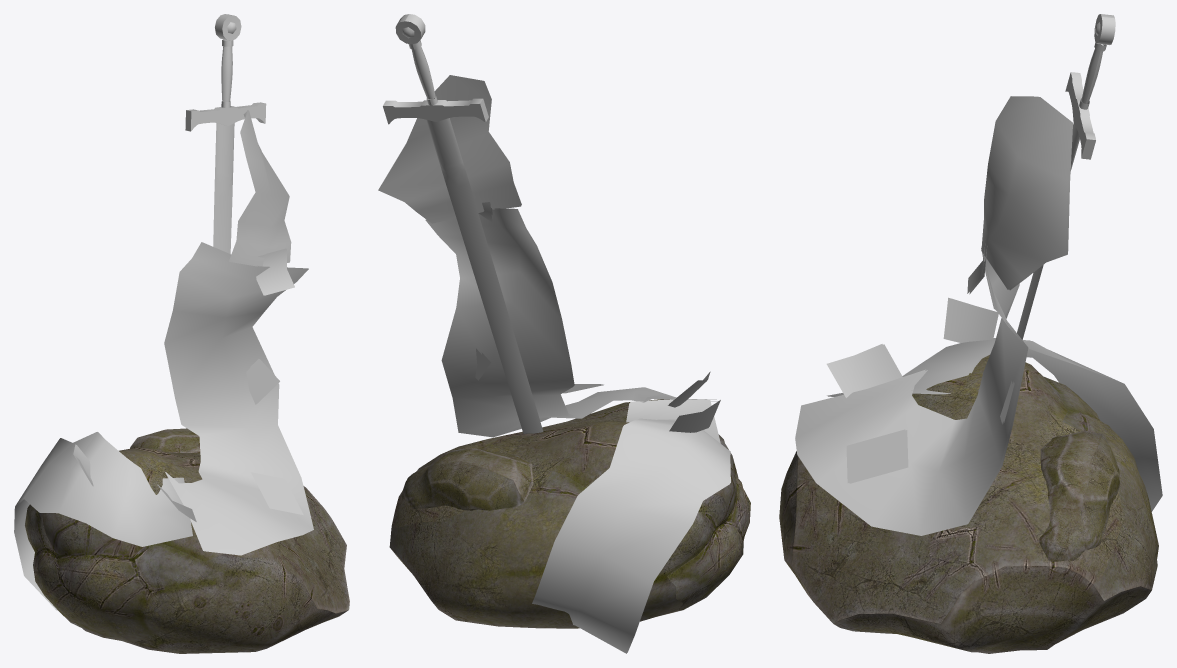
File: excaliburneasemble2.fbx
3 renders of one model, left to right at view 1: azimuth 30°, elevation 25°; view 2: azimuth 150°, elevation 25°; view 3: azimuth 270°, elevation 25°, orthographic. The views are drawn at different scales.
Visible parts, largest first — view 1: Plane_023, Cube_009, Cube_008; view 2: Plane_023, Cube_009, Cube_008; view 3: Cube_009, Plane_023, Cube_008.
Part boxes in pixels (<box>): Plane_023: <box>14,110,313,610</box>; Cube_009: <box>25,428,349,653</box>; Cube_008: <box>185,14,266,253</box>; Plane_023: <box>378,75,730,653</box>; Cube_009: <box>389,399,750,628</box>; Cube_008: <box>383,14,543,433</box>; Cube_009: <box>779,355,1158,653</box>; Plane_023: <box>795,96,1162,535</box>; Cube_008: <box>1017,14,1115,339</box>.
Size of the model in its own units: 0.7614 by 1.35 by 0.7341.
